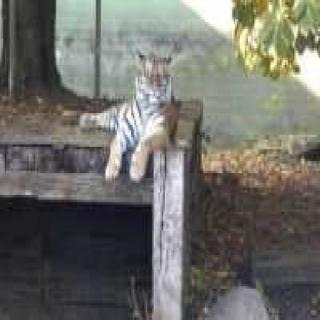Tiger: (82, 40, 186, 171)
